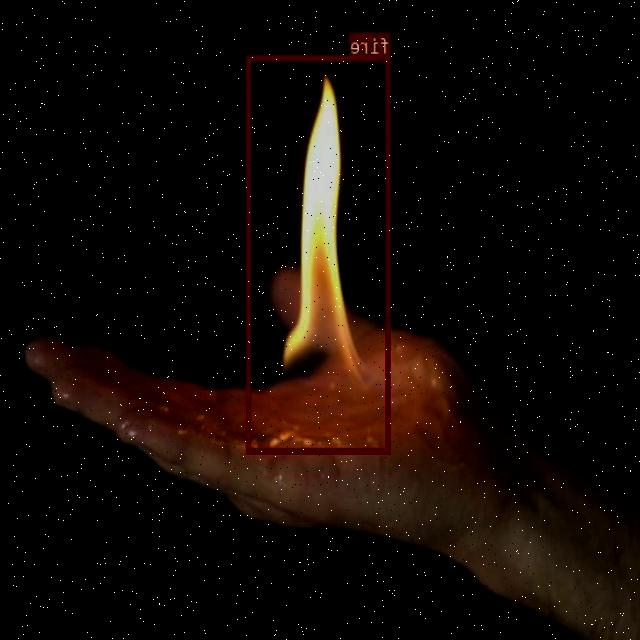fire: (247, 55, 392, 453)
